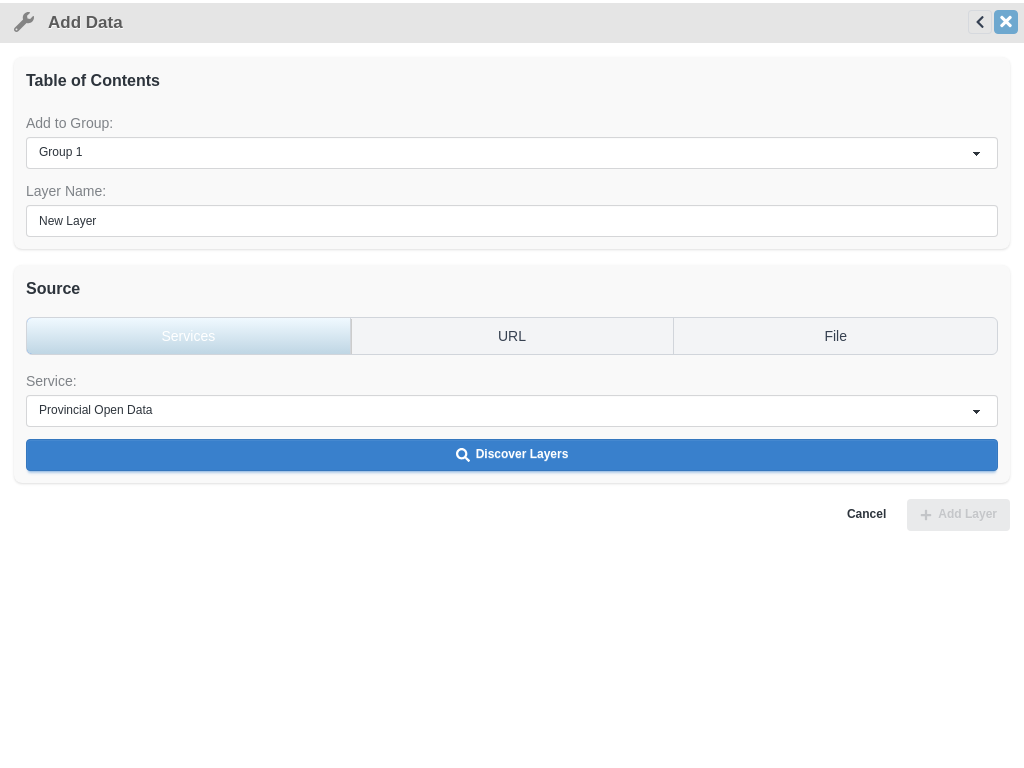
Test: AddLayerTool › shows supported file types in file tab
The image size is (1024, 768).
# Click on File tab
Click the tab "File". click: (836, 336)
box: [824,328,847,344]
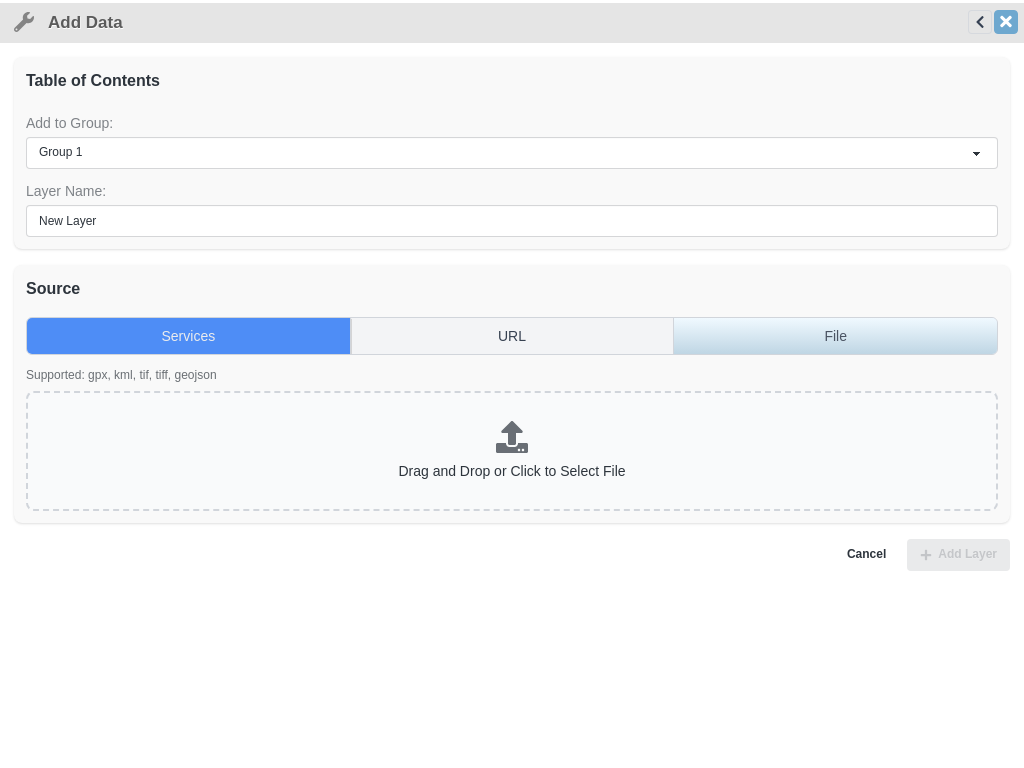
Expected: the text "Supported: gpx, kml, tif, tiff, geojson" is shown, [26,368,217,382]
